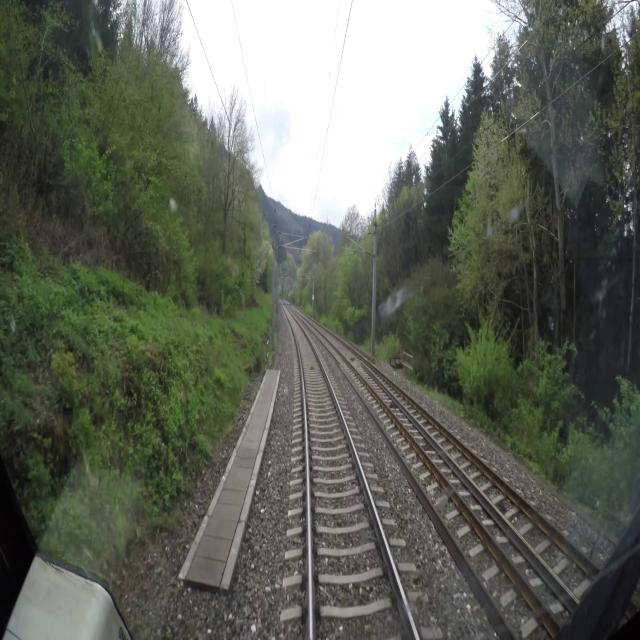rail-track: (310, 320, 562, 581), (283, 305, 414, 639)
